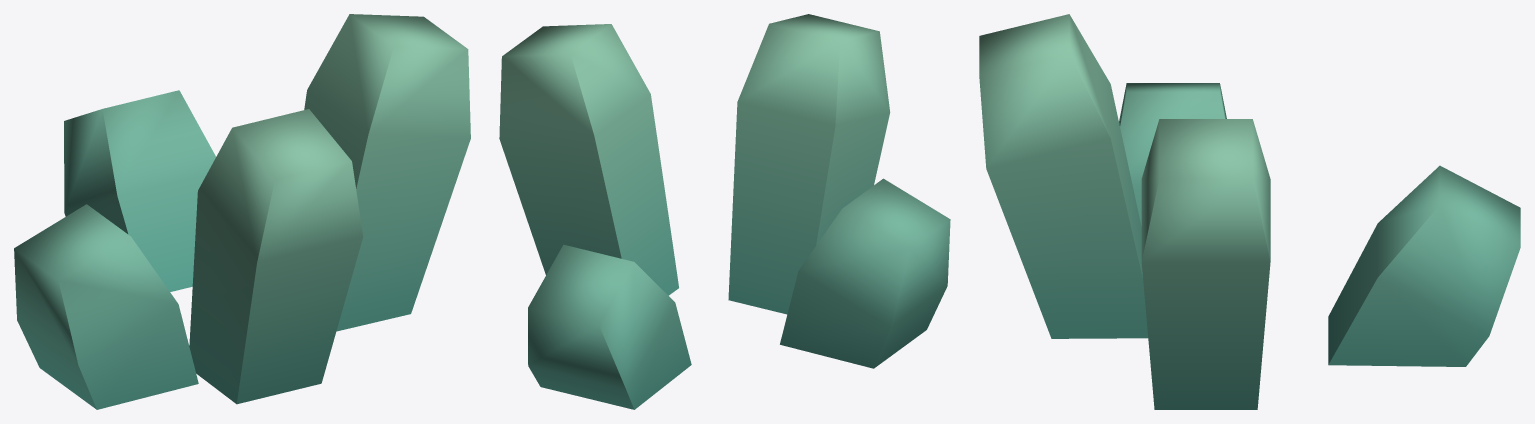
File: grass.glb
3 views of the same model, side by side, from view 1: azimuth 30°, elevation 25°; view 2: azimuth 150°, elevation 25°; view 3: azimuth 270°, elevation 25° (orthographic). The views are drawn at different scales.
Visible parts, largest first — view 1: grass; view 2: grass; view 3: grass.
Part boxes in pixels (box(x1,y1,x2,y2)): grass: box(14, 14, 470, 409); grass: box(499, 14, 950, 409); grass: box(979, 14, 1520, 409).
Bounding box in the file's own units: 0.5187 × 0.3139 × 0.5437.
